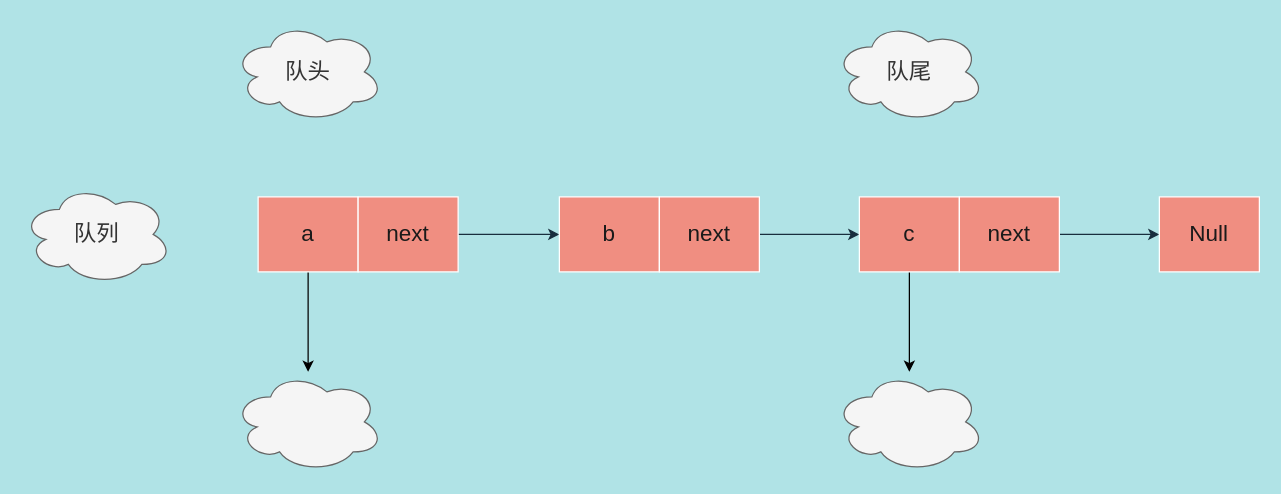
This 1281x494 diagram has some shape labels left out. The shapes that lost their labels are listed below. From the top down, each one's box as (x1, y1, x2, y2) in pixels, then its label:
(232, 371, 383, 472): head
(833, 371, 984, 472): end
